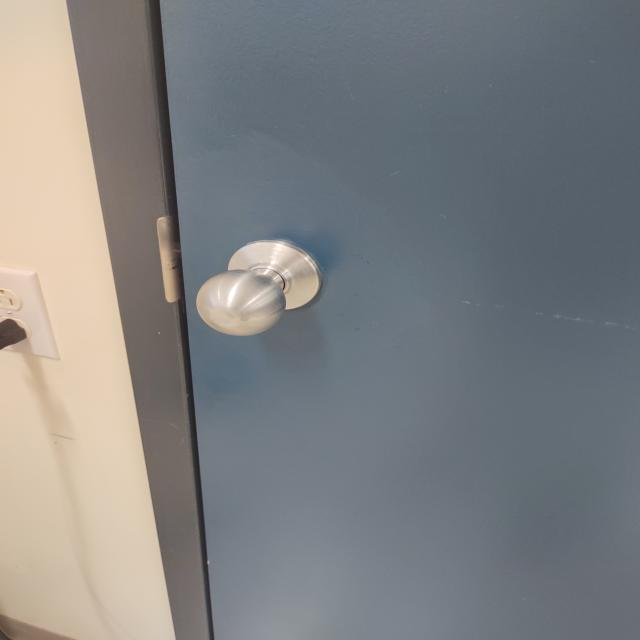door-knob: (195, 240, 321, 336)
